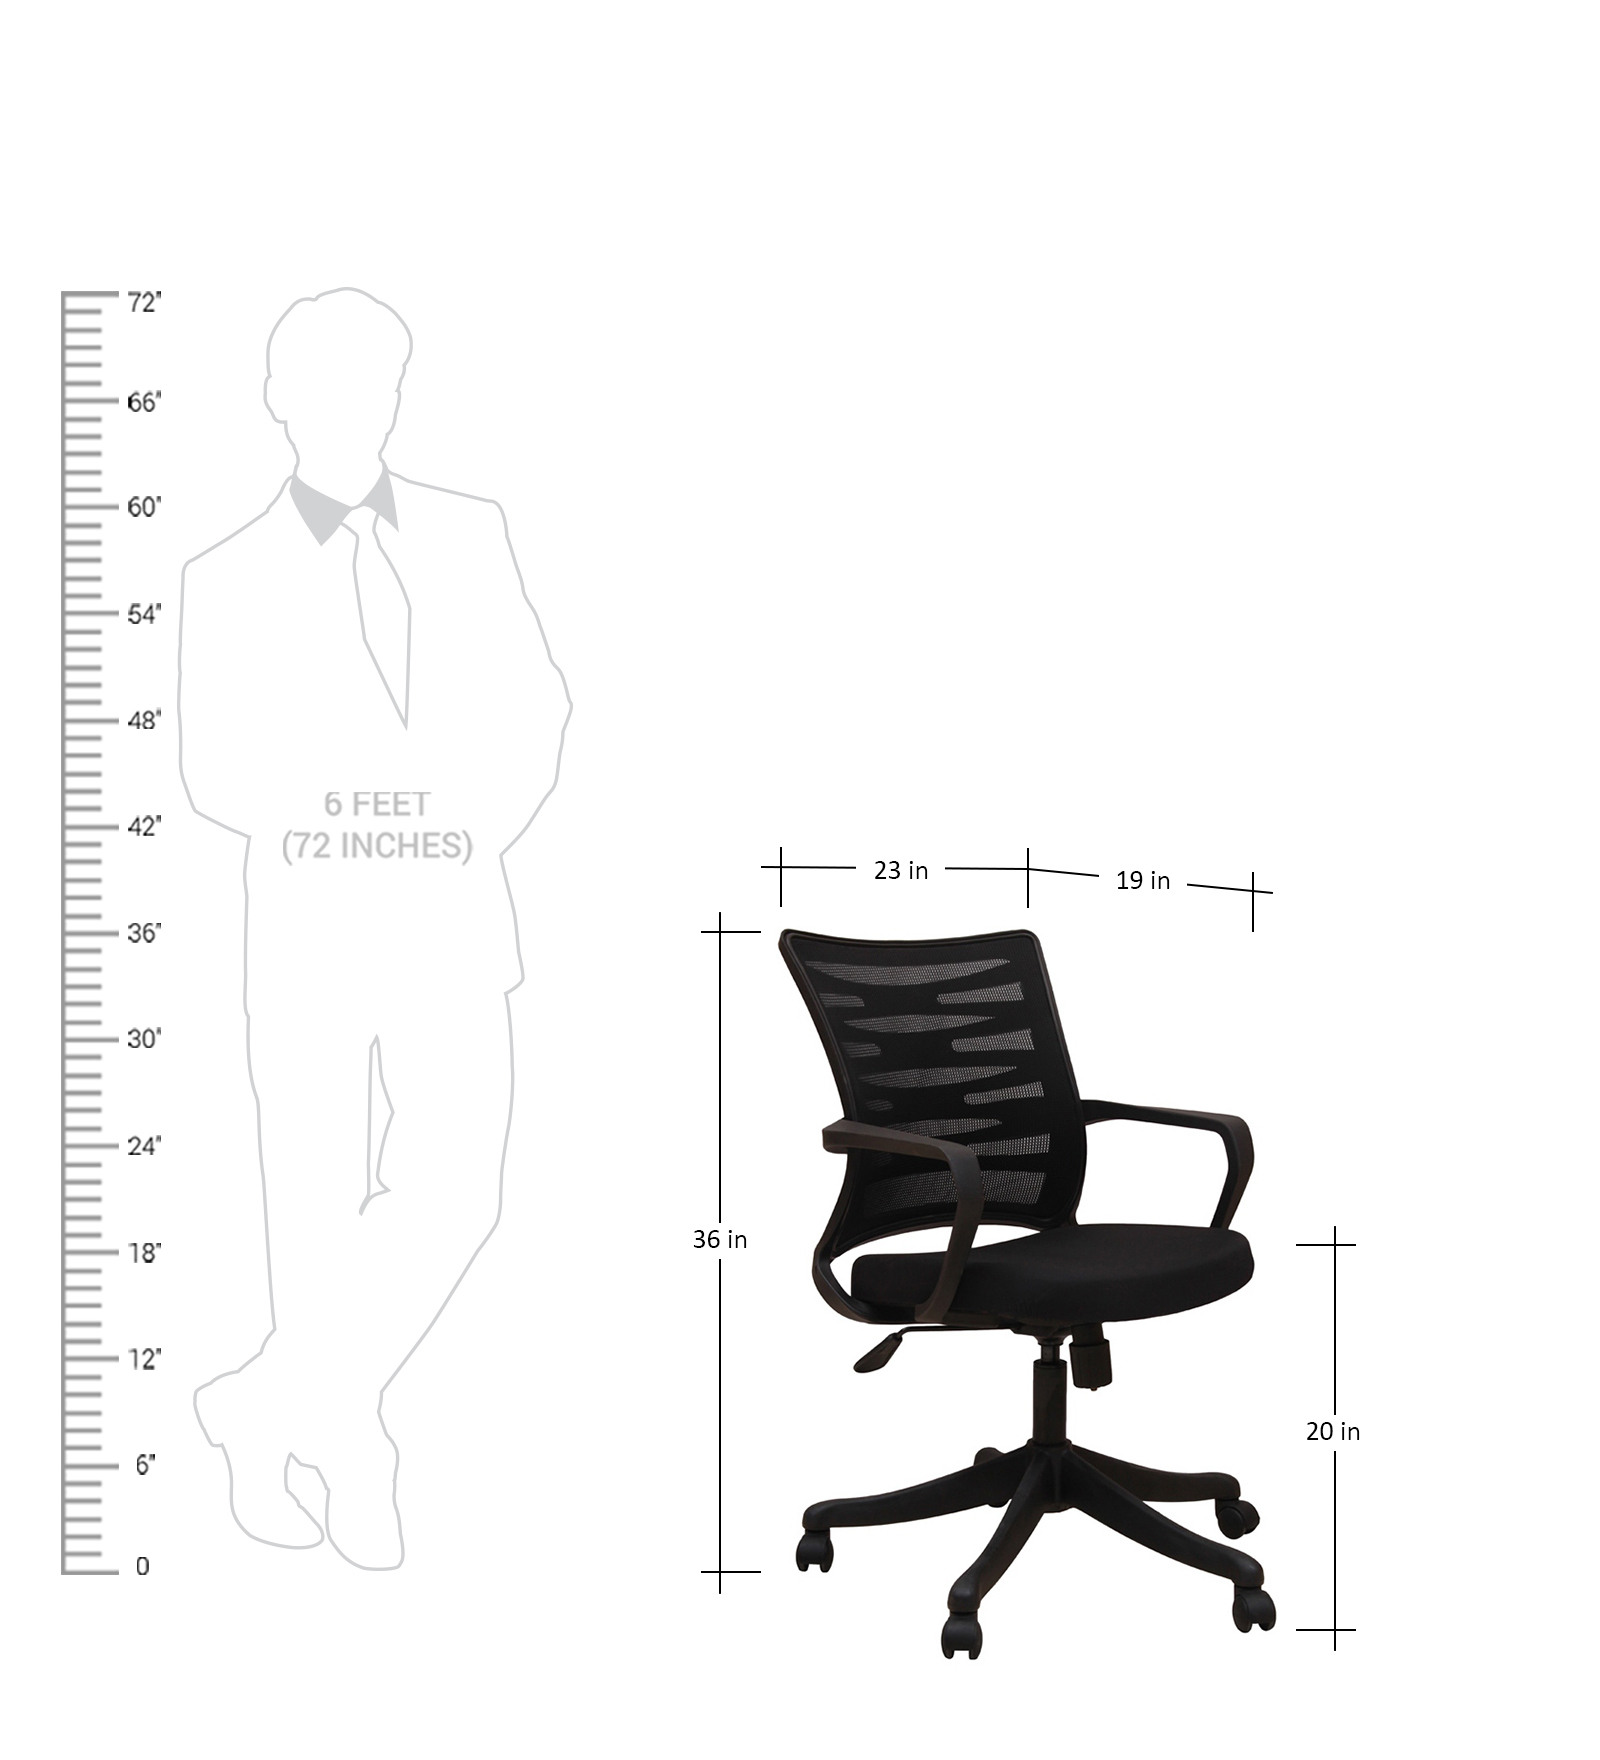Royal Mesh Ergonomic Chair in Black Colour by Adiko Systems: (759, 905, 1287, 1696)
